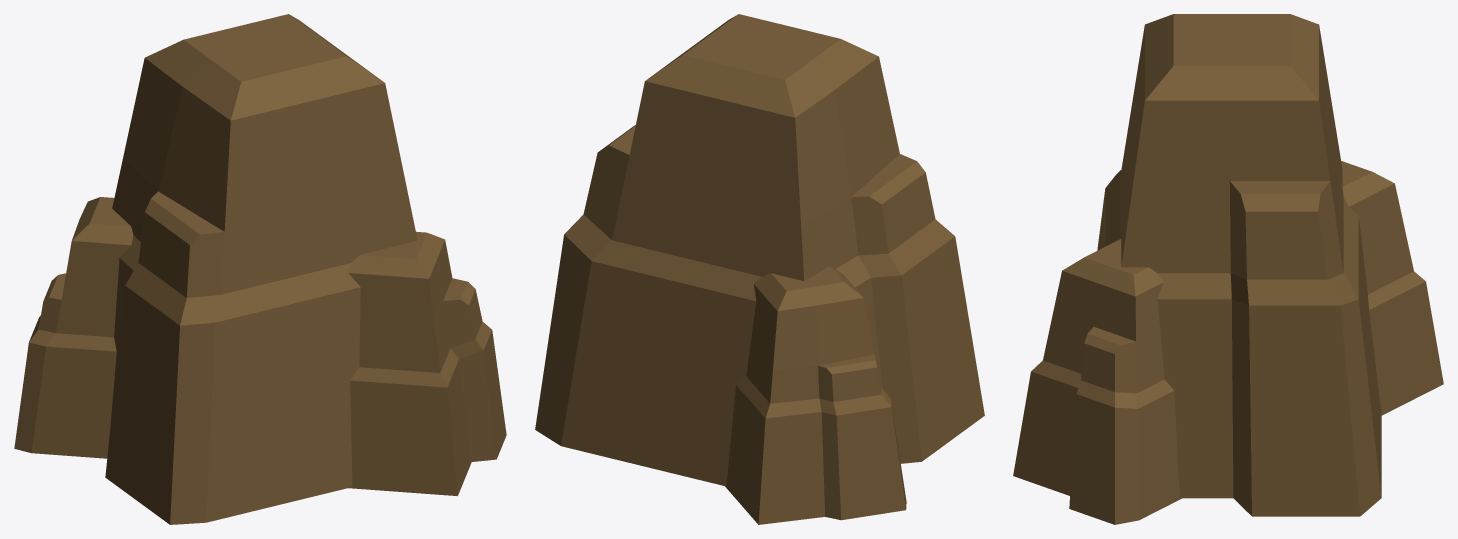
Rendered from Clay.fbx.
The picture shows the model from 3 angles, left to right: view 1: azimuth 30°, elevation 25°; view 2: azimuth 150°, elevation 25°; view 3: azimuth 270°, elevation 25°; orthographic projection. The views are drawn at different scales.
Visible parts, largest first — view 1: Boulder; view 2: Boulder; view 3: Boulder.
Part boxes in pixels (x1,y1,x2,y2): Boulder: (14, 14, 506, 524); Boulder: (535, 14, 984, 524); Boulder: (1013, 14, 1443, 524).
Size of the model in its own units: 2.89 by 2.81 by 2.78.
